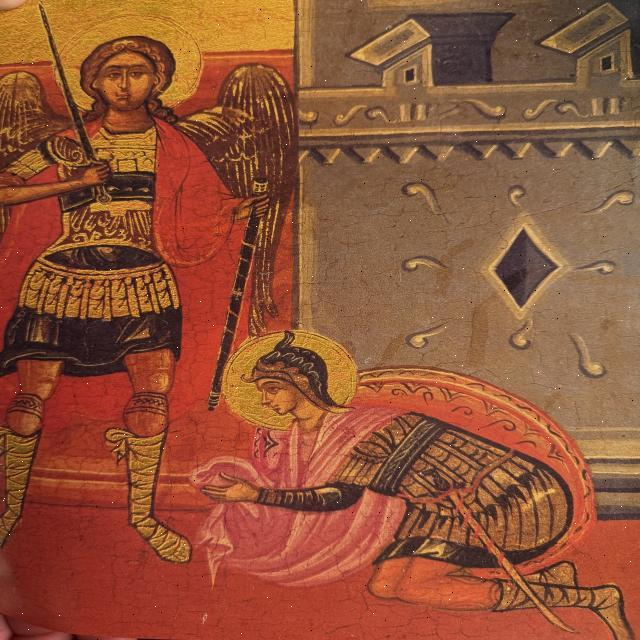angel: (5, 13, 308, 581)
aura: (53, 12, 205, 112), (222, 329, 358, 427)
saint: (216, 330, 628, 640)
sword: (37, 5, 122, 207)
wing: (188, 61, 310, 313), (1, 72, 67, 200)
